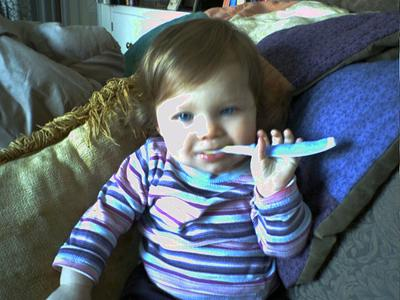person: (44, 19, 314, 300)
